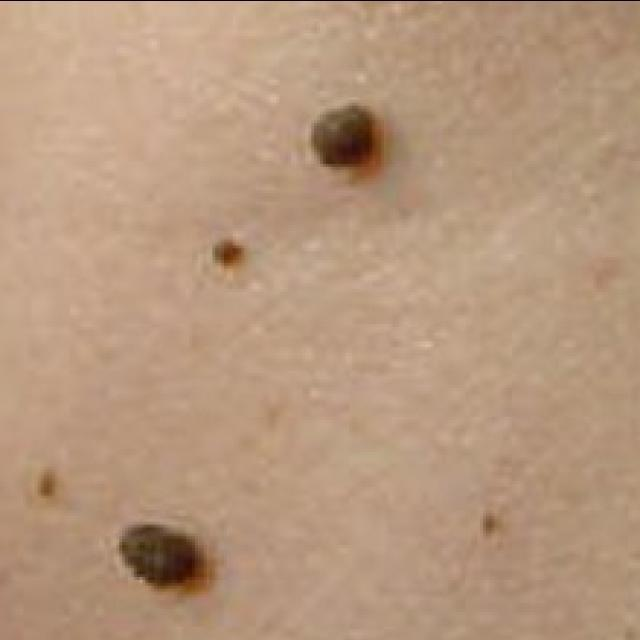wart: (113, 518, 201, 590), (306, 102, 378, 172)
